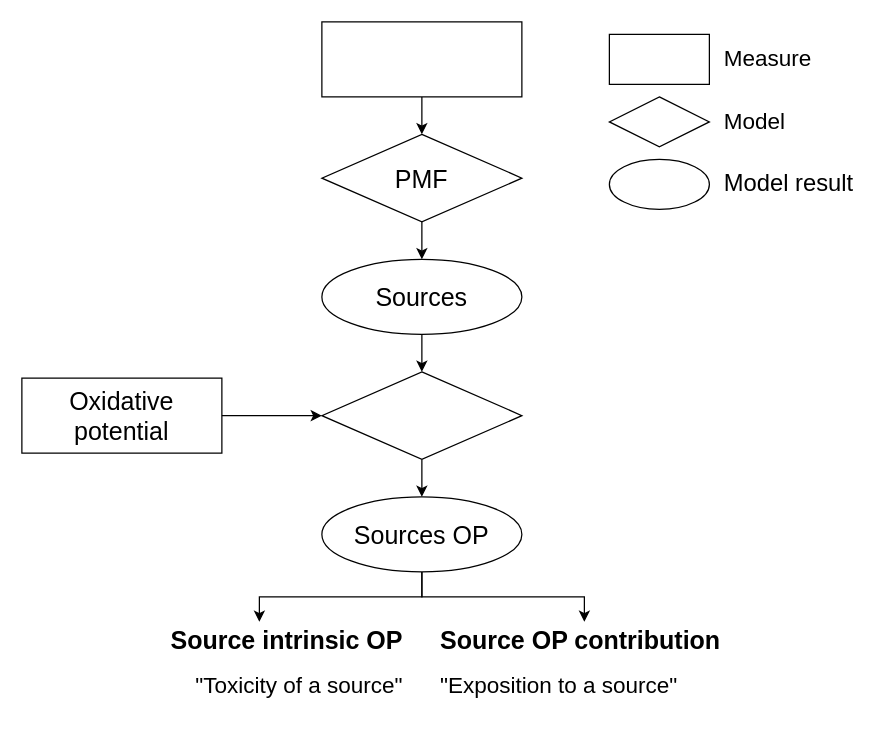
This 881x744 diagram has some shape labels left out. The box of each missing label's shape, as (x1, y1, x2, y2) in pixels:
Chemical species: (321, 21, 522, 97)
Inversion: (321, 371, 522, 459)
